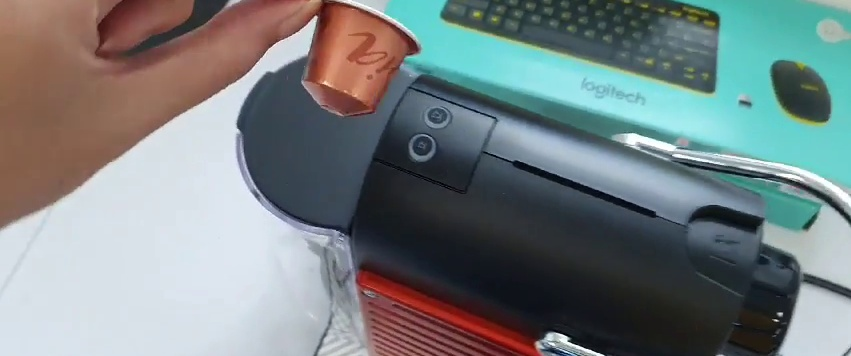capsule_6: (302, 1, 424, 119)
